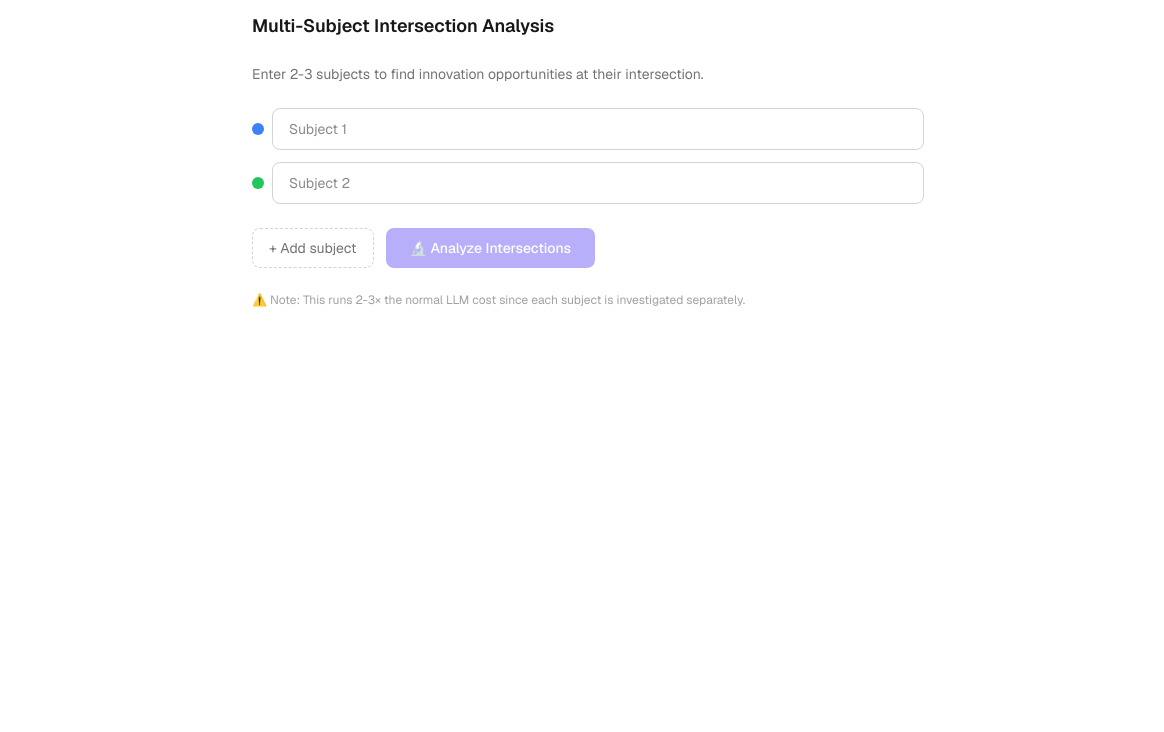
Test: IntersectionAnalysis › renders results with subjects and opportunities
Type "AI" into the field with placeholder "Subject 1" at (598, 129), box [272,108,924,150]
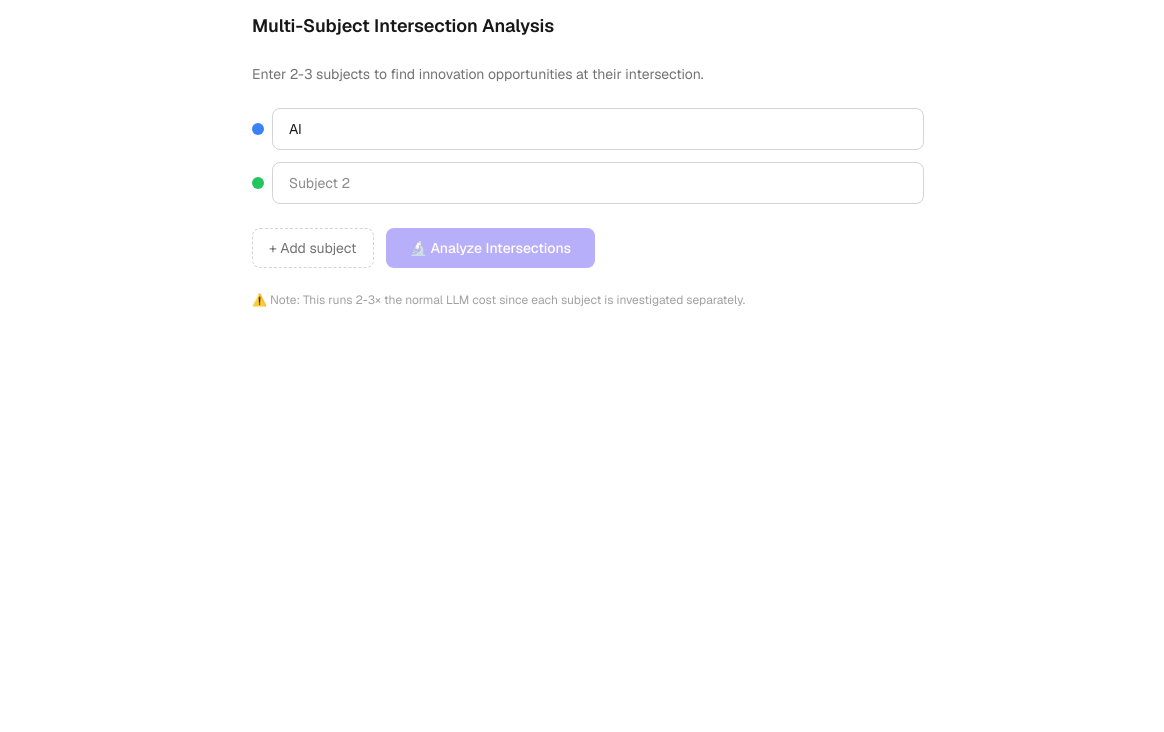
Type "Healthcare" into the field with placeholder "Subject 2" at (598, 183), box [272,162,924,204]
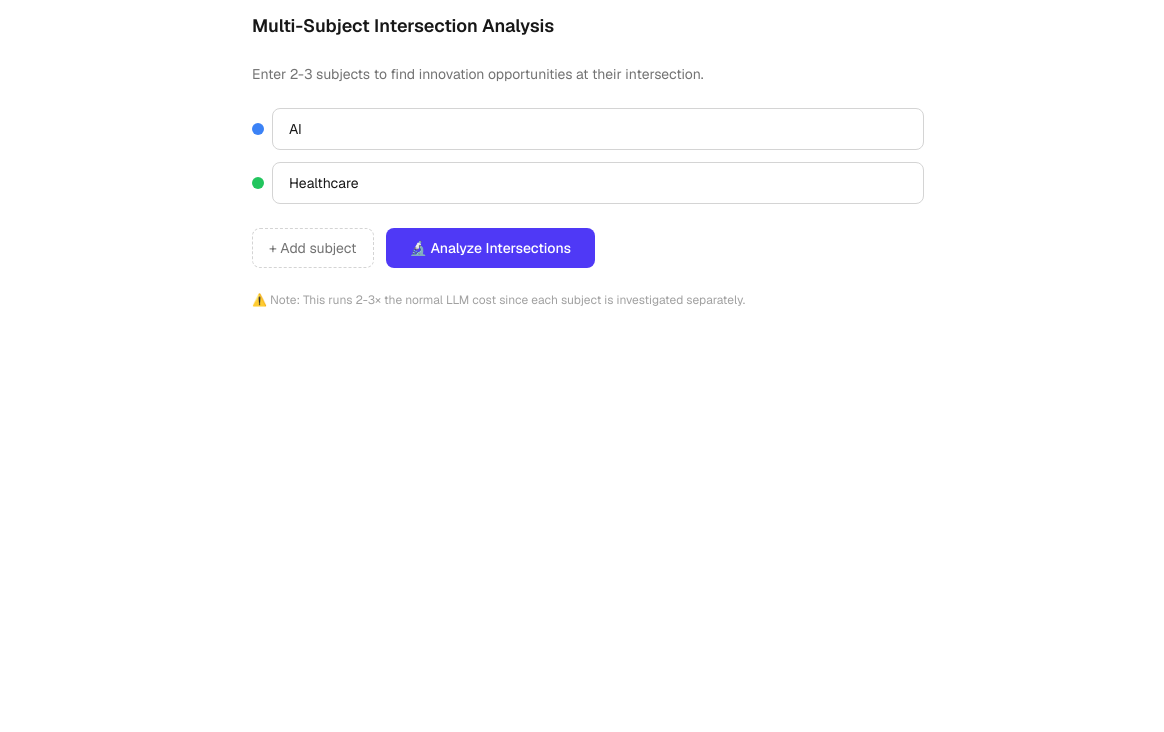
Click the button "🔬 Analyze Intersections" at (490, 248), box [386,228,595,268]
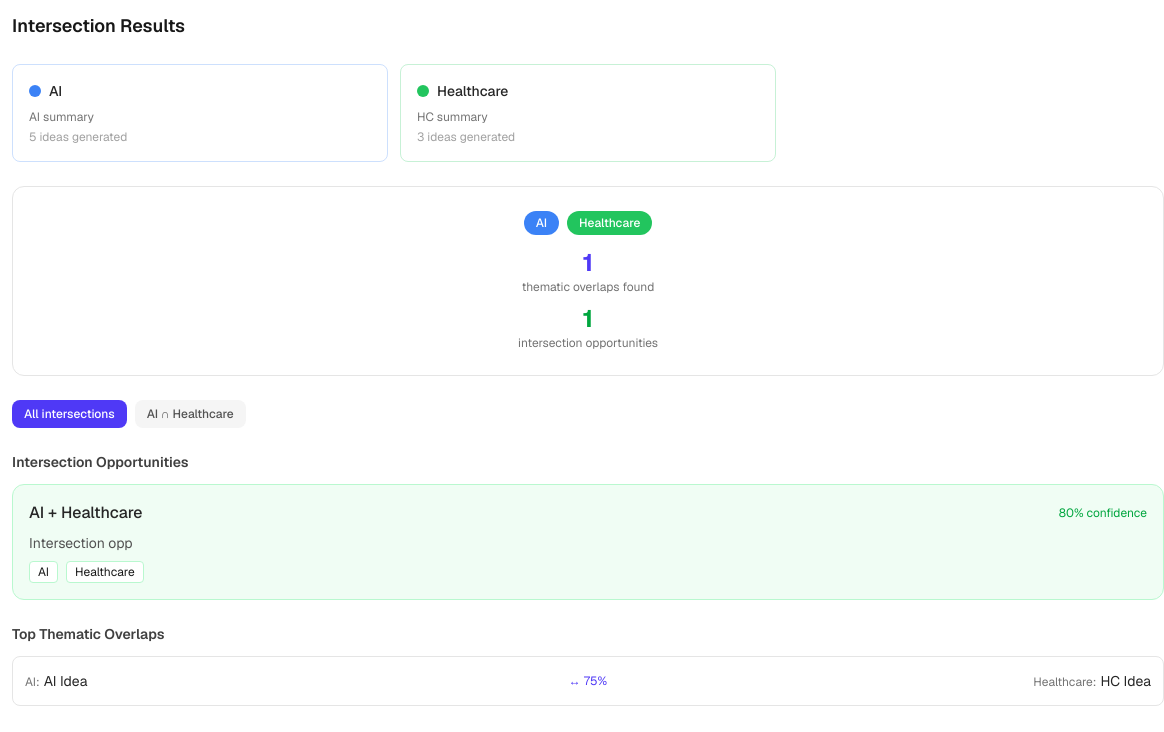
Now the heading "Intersection Results" is shown, box [12,12,185,40]
Now the heading "AI" is shown, box [49,81,62,101]
Now the heading "Healthcare" is shown, box [437,81,508,101]
